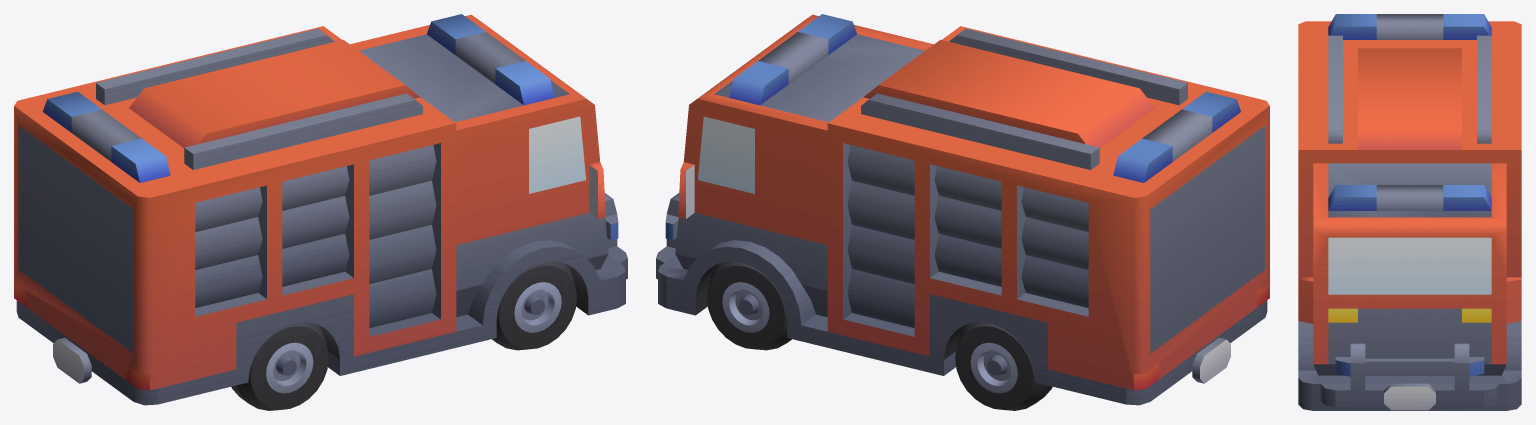
The model's file is car07.glb.
The picture shows the model from 3 angles, left to right: view 1: azimuth 30°, elevation 25°; view 2: azimuth 150°, elevation 25°; view 3: azimuth 270°, elevation 25°; orthographic projection. The views are drawn at different scales.
Parts seen in each view (by area): view 1: body.007; view 2: body.007; view 3: body.007.
Part boxes in pixels (left/top/right/bottom): body.007: left=14, top=14, right=627, bottom=410; body.007: left=656, top=14, right=1269, bottom=410; body.007: left=1298, top=14, right=1521, bottom=410.
Bounding box in the file's own units: 3.4 × 1.7 × 1.5.
Materials: 1 (1 with a texture image).
